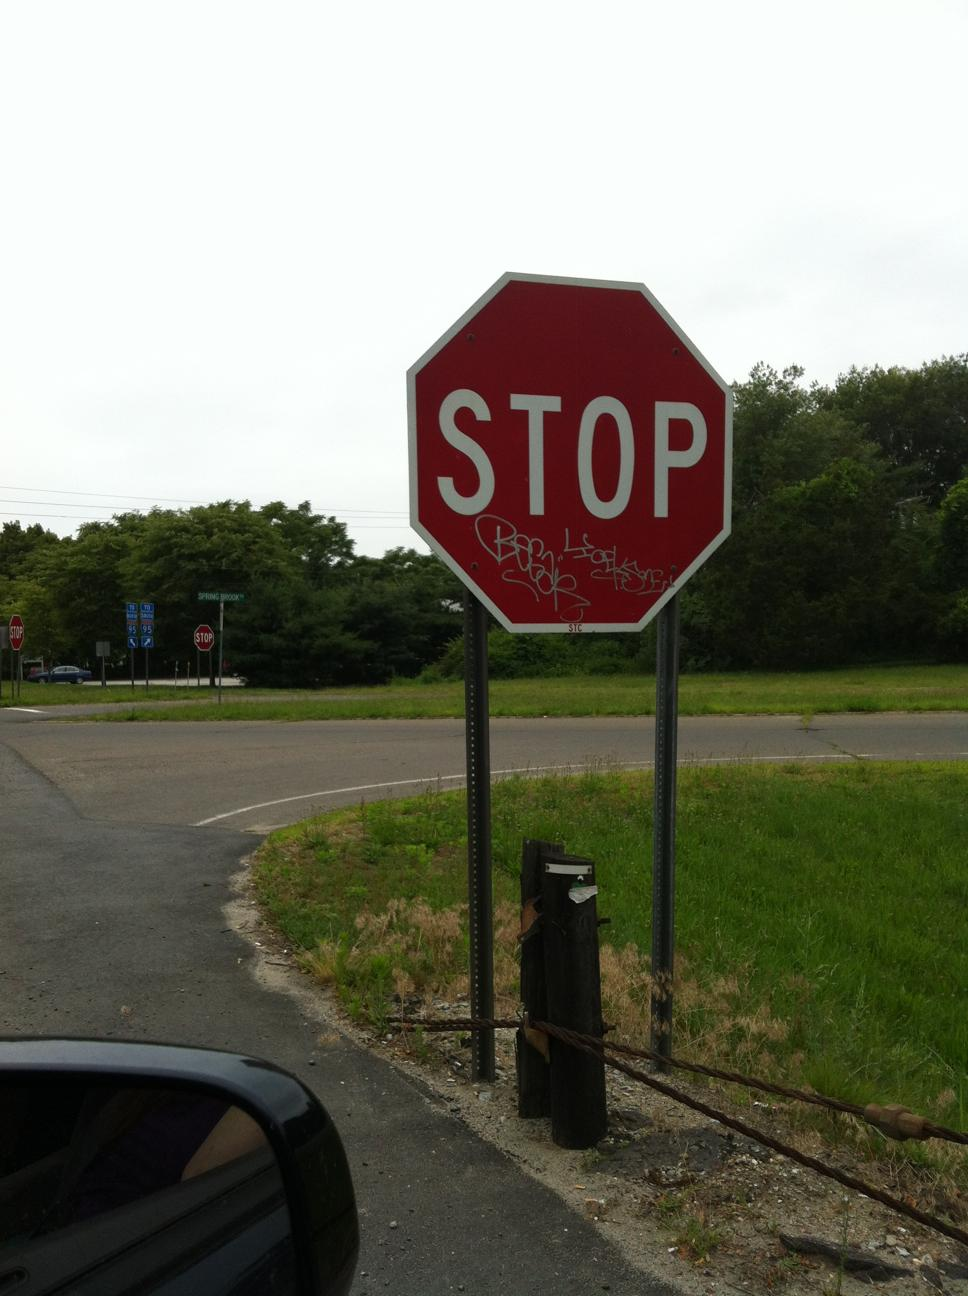stop: (416, 285, 729, 626)
